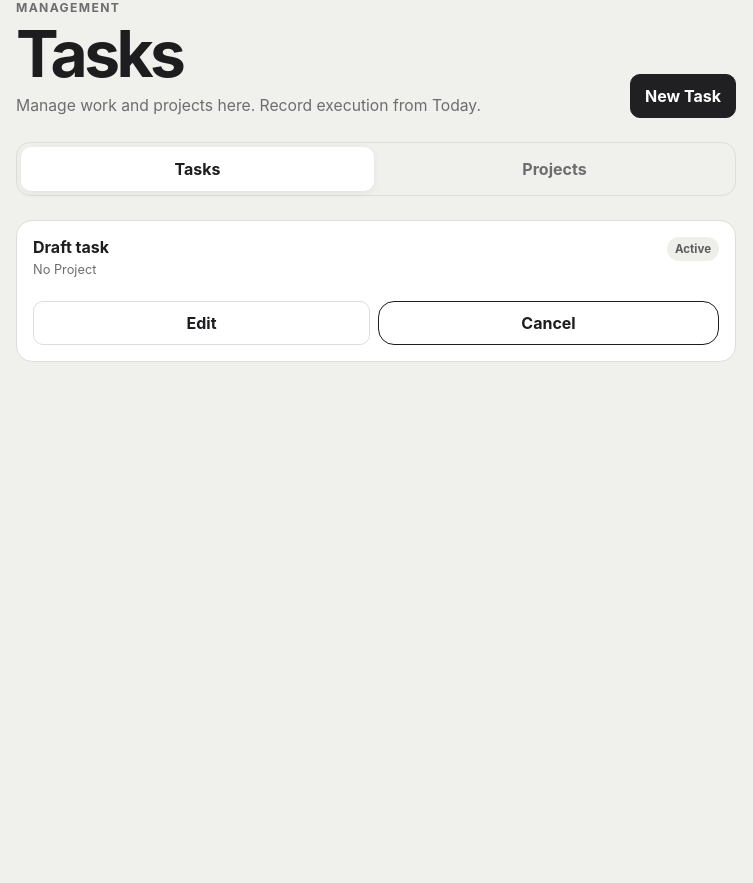
Test: Task + Project management surface › edits a task definition without exposing completion or blocked as editor states
Click the button "Edit".
click(202, 323)  # box [33, 301, 370, 345]
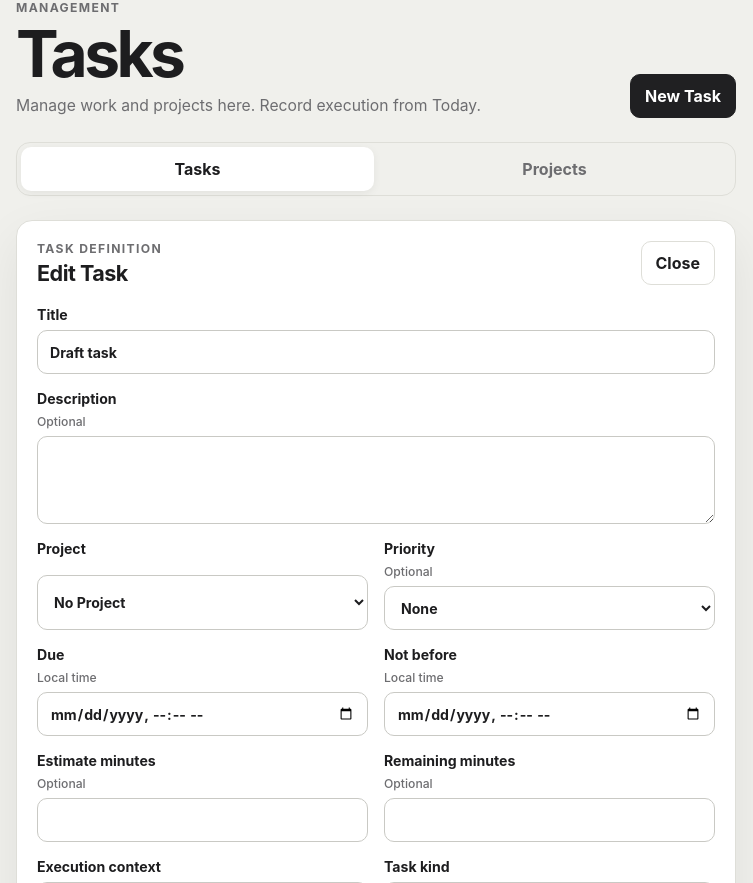
Replace the text in the field labelled "Title" with "Revised task" at [376, 352], box [37, 330, 715, 374]
(page scrolled)
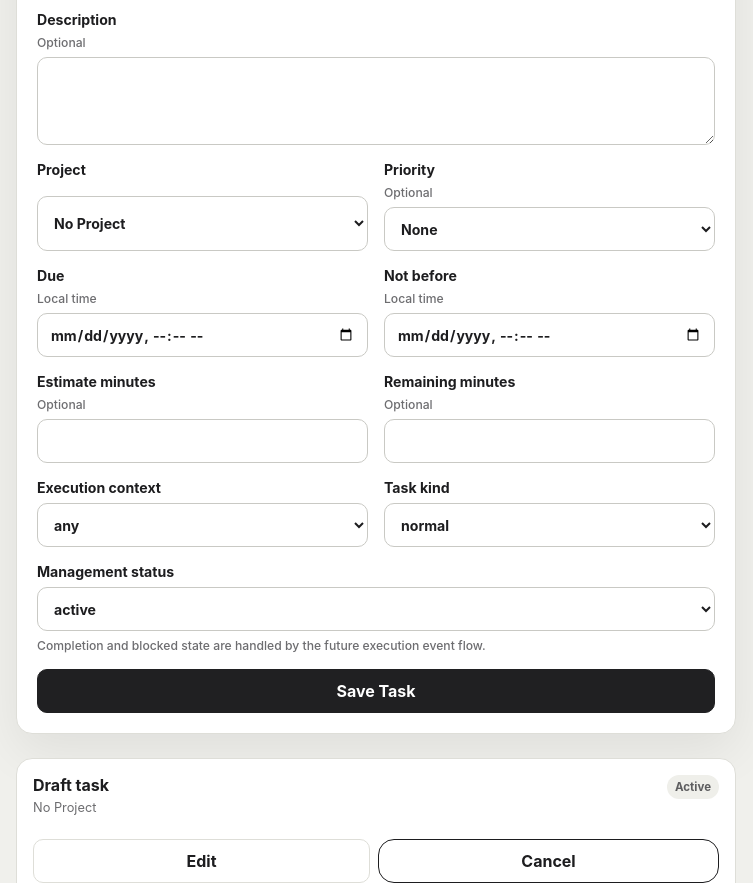
Select "waiting" in the dropdown labelled "Management status" at [376, 609], box [37, 587, 715, 631]
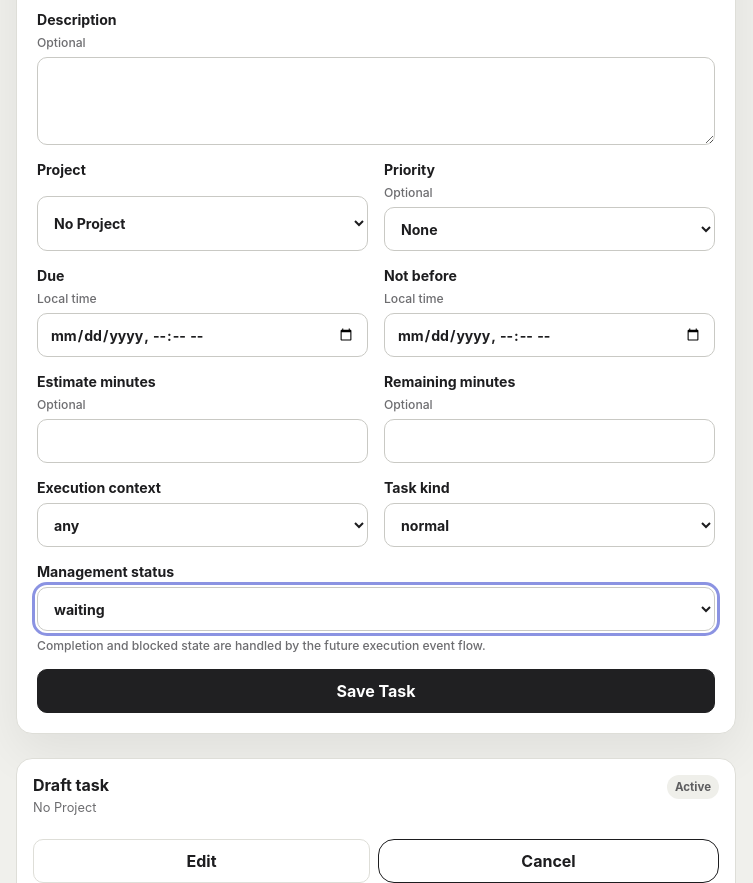
Click the button "Save Task".
click(376, 691)  # box [37, 669, 715, 713]
(page scrolled)
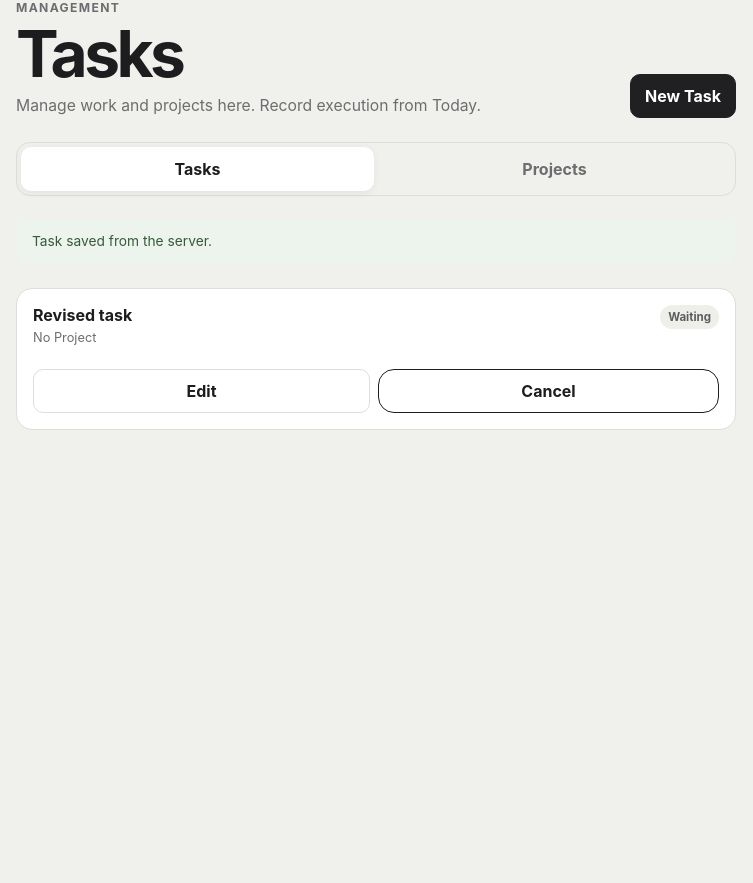
Now the heading "Revised task" is shown, box [33, 305, 132, 326]
